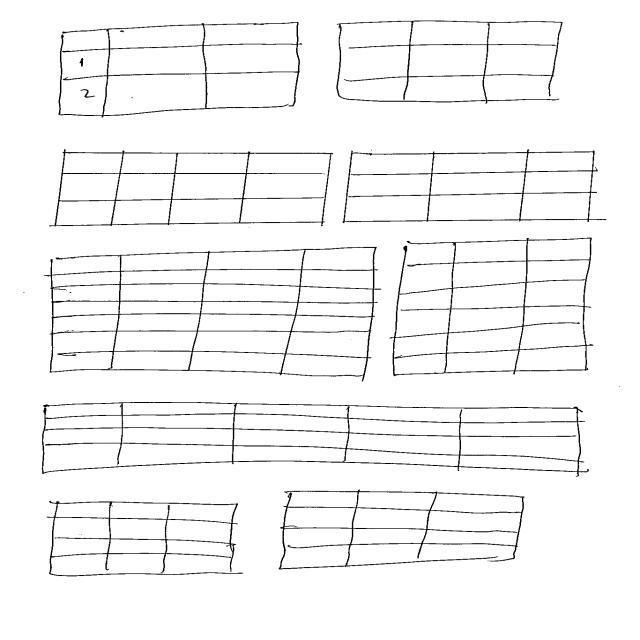table: (46, 245, 377, 379), (40, 403, 583, 477), (390, 237, 594, 378), (56, 21, 303, 118), (50, 151, 334, 229), (277, 490, 528, 572), (340, 151, 598, 227), (333, 20, 563, 104), (47, 500, 242, 579)
